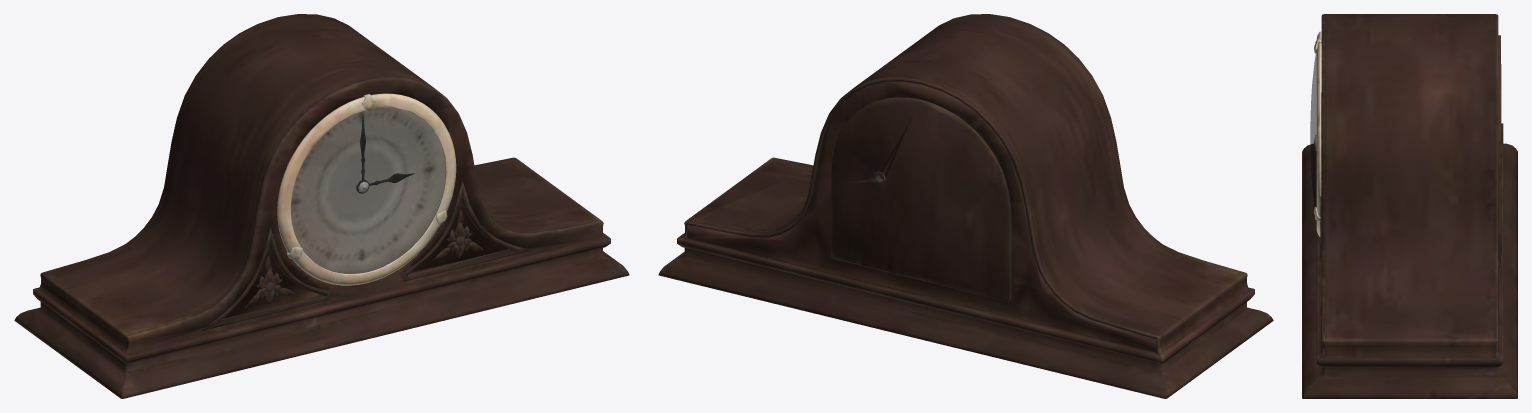
Rendered from mantel-clock.glb.
3 views of the same model, side by side, from view 1: azimuth 30°, elevation 25°; view 2: azimuth 150°, elevation 25°; view 3: azimuth 270°, elevation 25° (orthographic).
Visible parts, largest first — view 1: mantel_clock_01, mantel_clock_01_glass; view 2: mantel_clock_01; view 3: mantel_clock_01, mantel_clock_01_glass.
Boxes of the visible parts, x1,y1,x2,y2 form: mantel_clock_01: (14, 14, 629, 398); mantel_clock_01_glass: (291, 107, 445, 273); mantel_clock_01: (658, 14, 1273, 398); mantel_clock_01: (1302, 14, 1517, 398); mantel_clock_01_glass: (1310, 53, 1316, 207).
Bounding box in the file's own units: 0.3423 × 0.1605 × 0.126.
2 materials, 2 textured.
